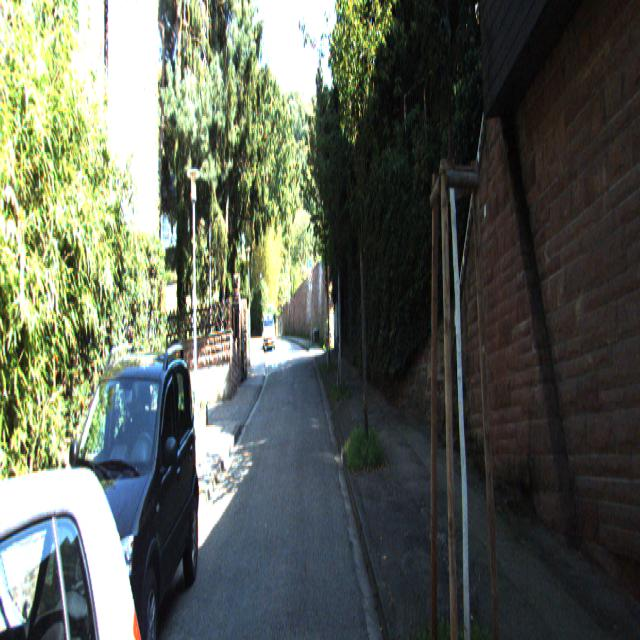Car: (38, 333, 200, 638), (0, 399, 167, 639), (263, 312, 276, 352)
